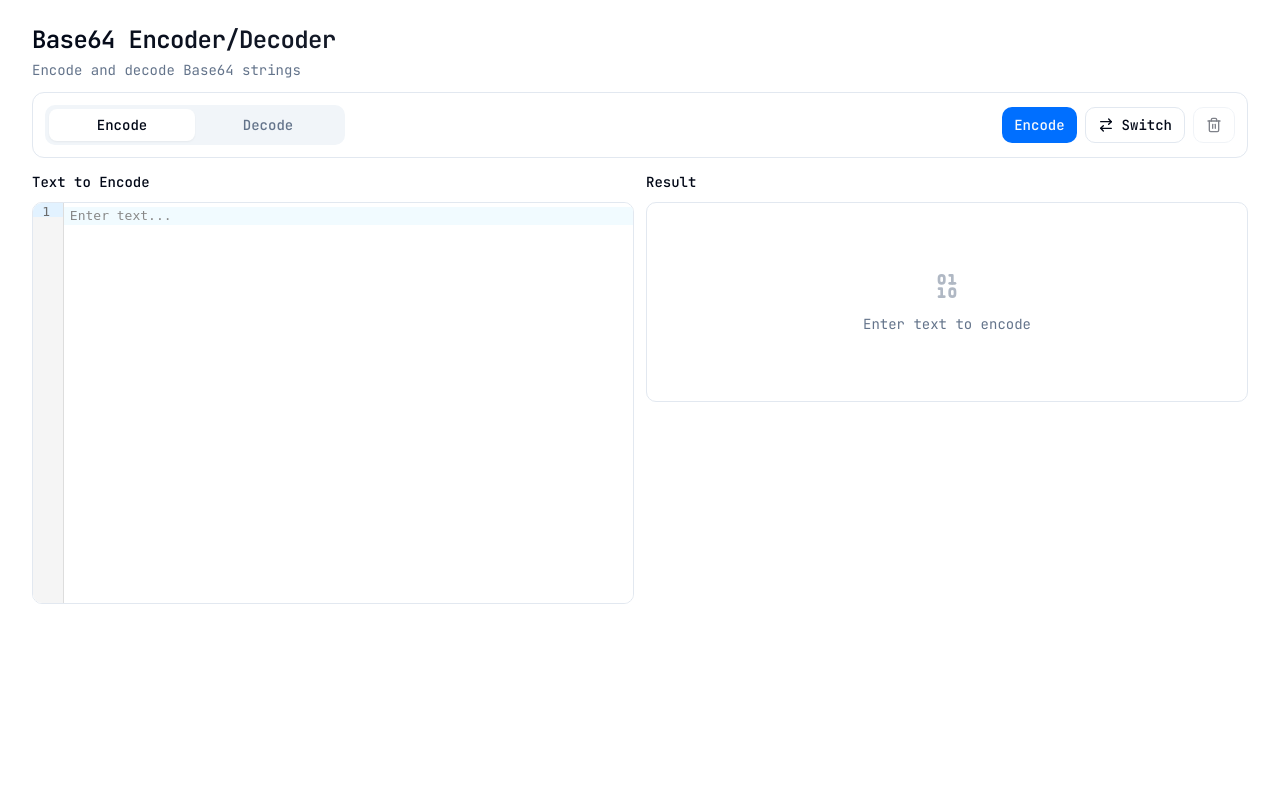
it: Base64Page › decoding › updates empty state message for decode mode
Press the mouse on the tab "Decode": (268, 125) [195,109,341,141]
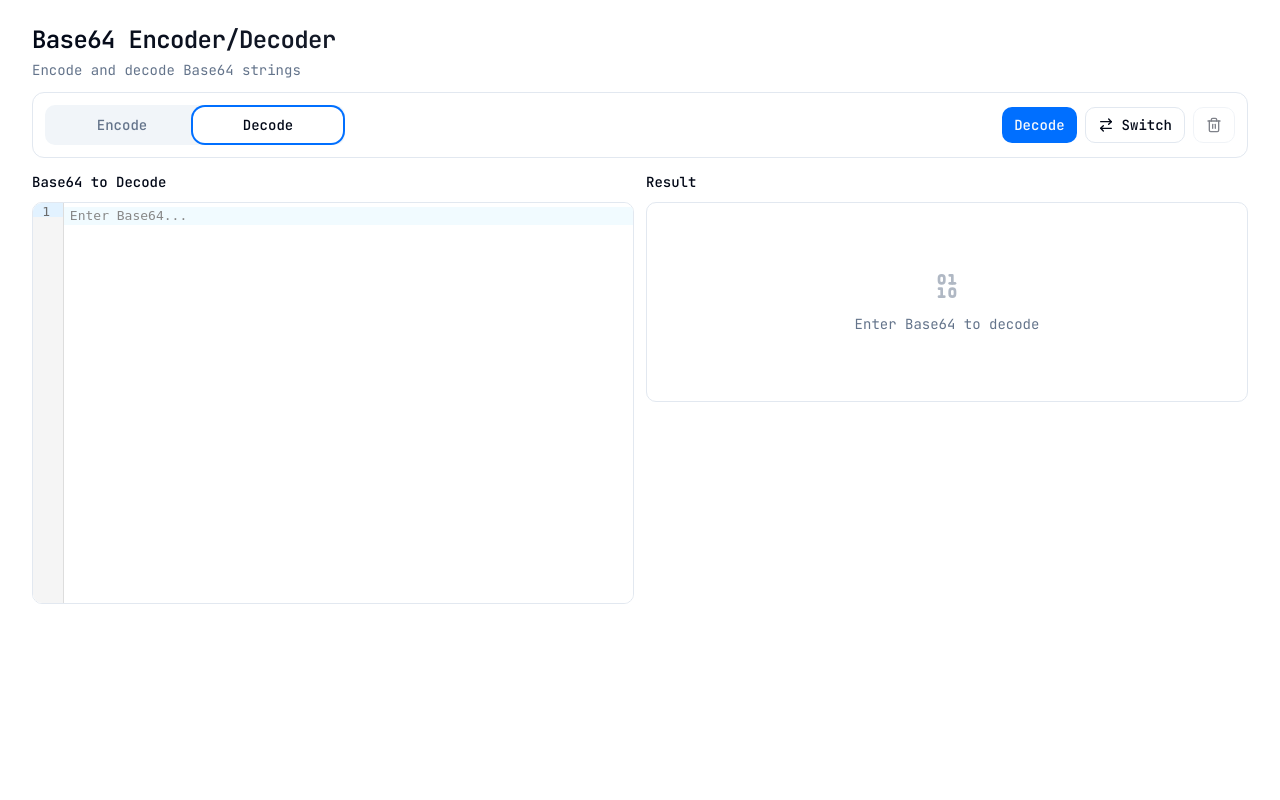
expect the text "Enter Base64 to decode" is shown: met, box [855,314,1039,334]
